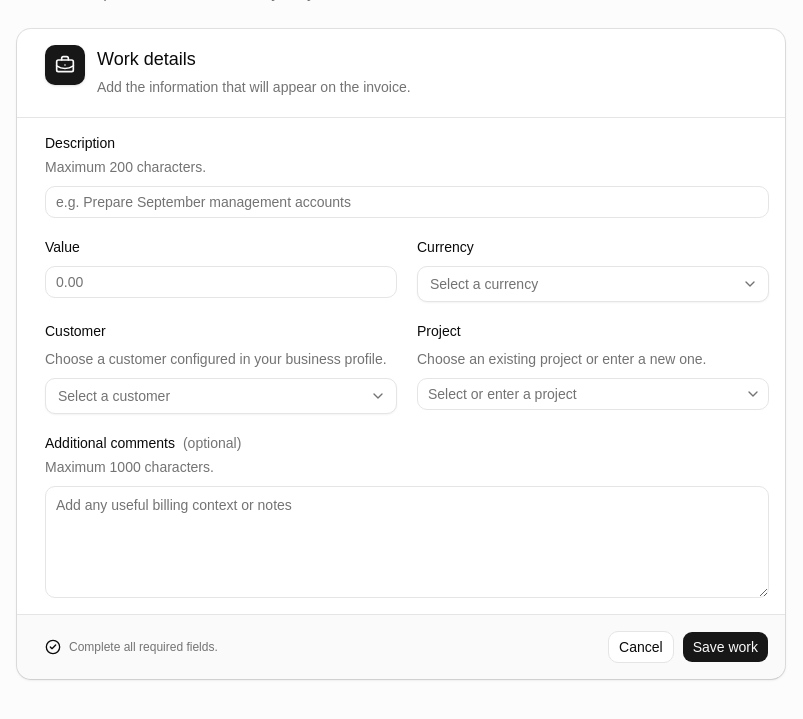
should show validation messages and not submit an empty work record
(page scrolled)
Click the button "Save work".
click(725, 647)  # box top-left (682, 631), bottom-right (769, 663)
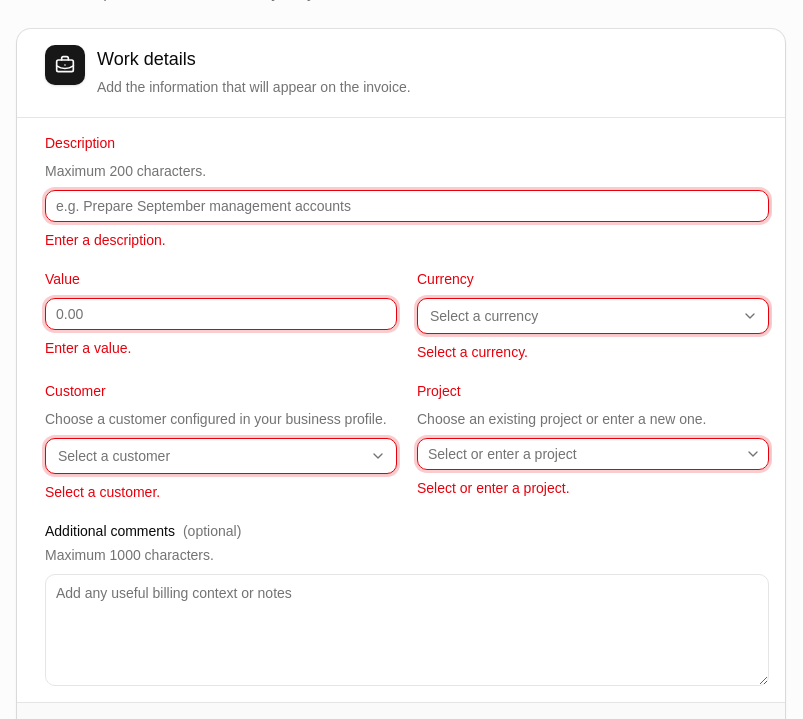
Check: the text "Enter a description." is shown, box top-left (45, 232), bottom-right (166, 248)
Check: the text "Select a currency." is shown, box top-left (417, 344), bottom-right (528, 360)
Check: the text "Select a customer." is shown, box top-left (45, 484), bottom-right (160, 500)
